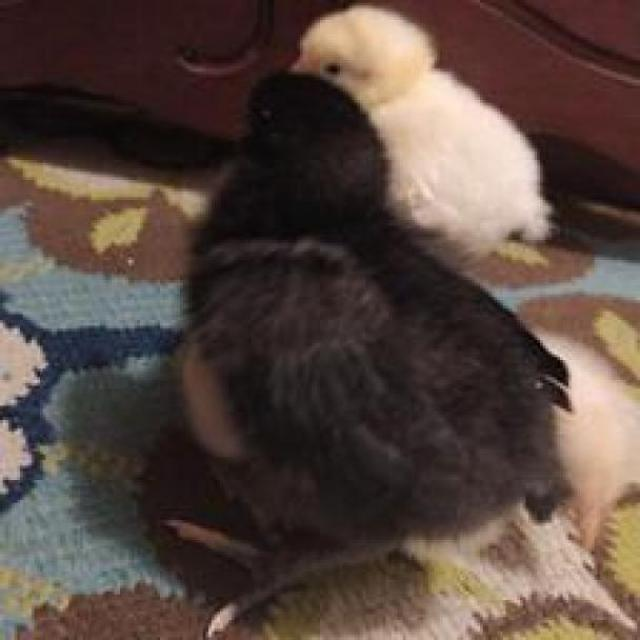Chicken: (178, 71, 590, 640)
